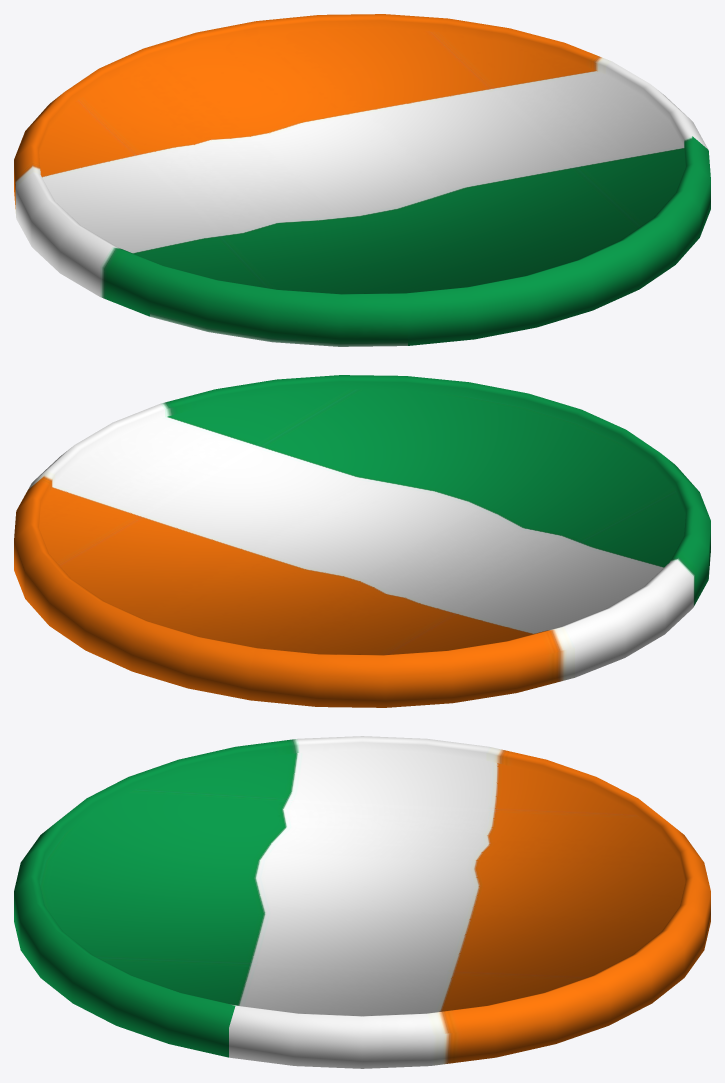
File: IrishFlagRound.fbx
3 views of the same model, one above another, from view 1: azimuth 30°, elevation 25°; view 2: azimuth 150°, elevation 25°; view 3: azimuth 270°, elevation 25° (orthographic).
Parts seen in each view (by area): view 1: Circle; view 2: Circle; view 3: Circle.
Part boxes in pixels (left/top/right/bottom): Circle: left=14, top=14, right=710, bottom=346; Circle: left=14, top=375, right=710, bottom=707; Circle: left=14, top=736, right=710, bottom=1068.
Bounding box in the file's own units: 200 × 14.34 × 200.
Materials: 1 (1 with a texture image).
